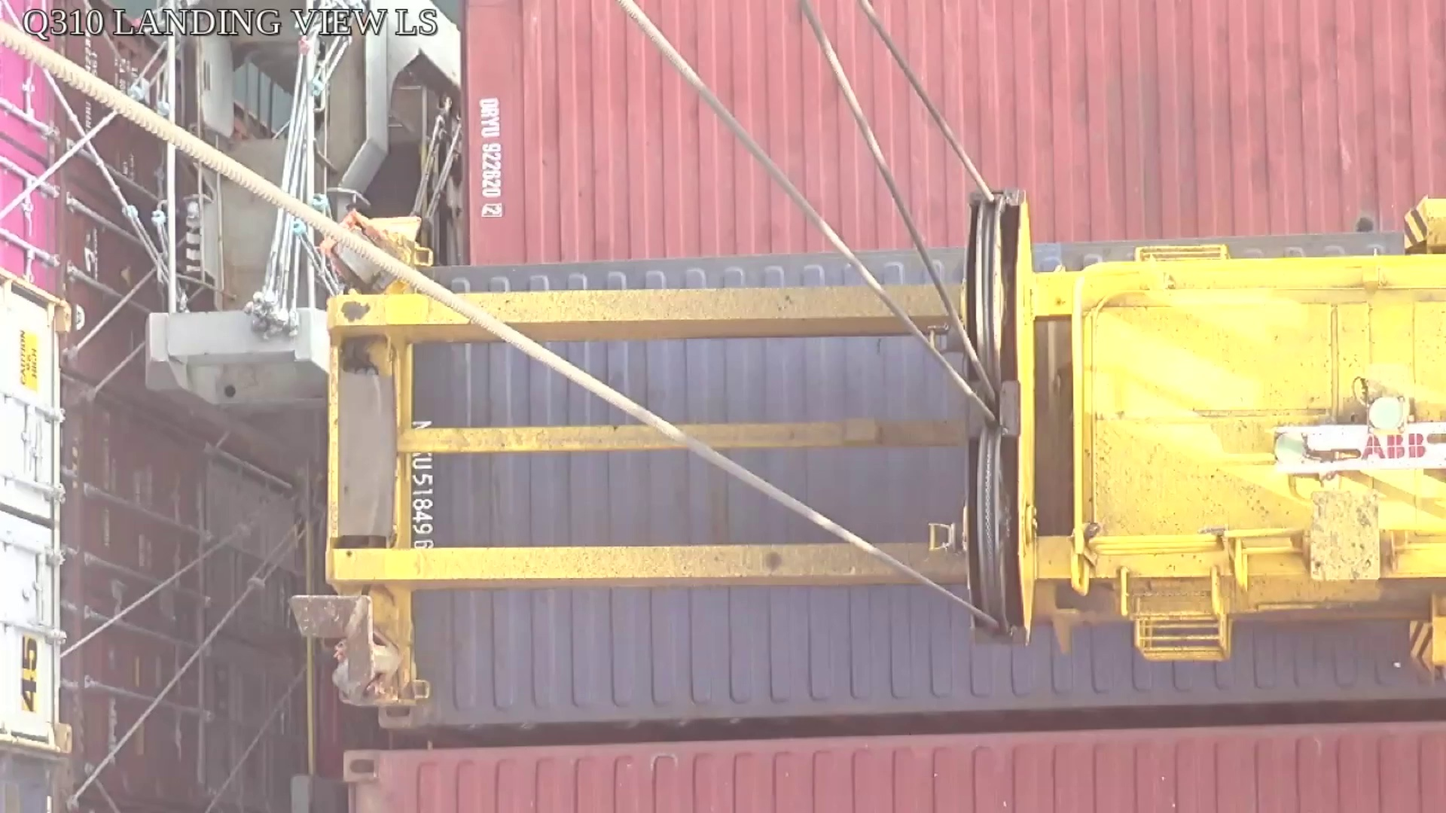aa: (960, 193, 1038, 646)
